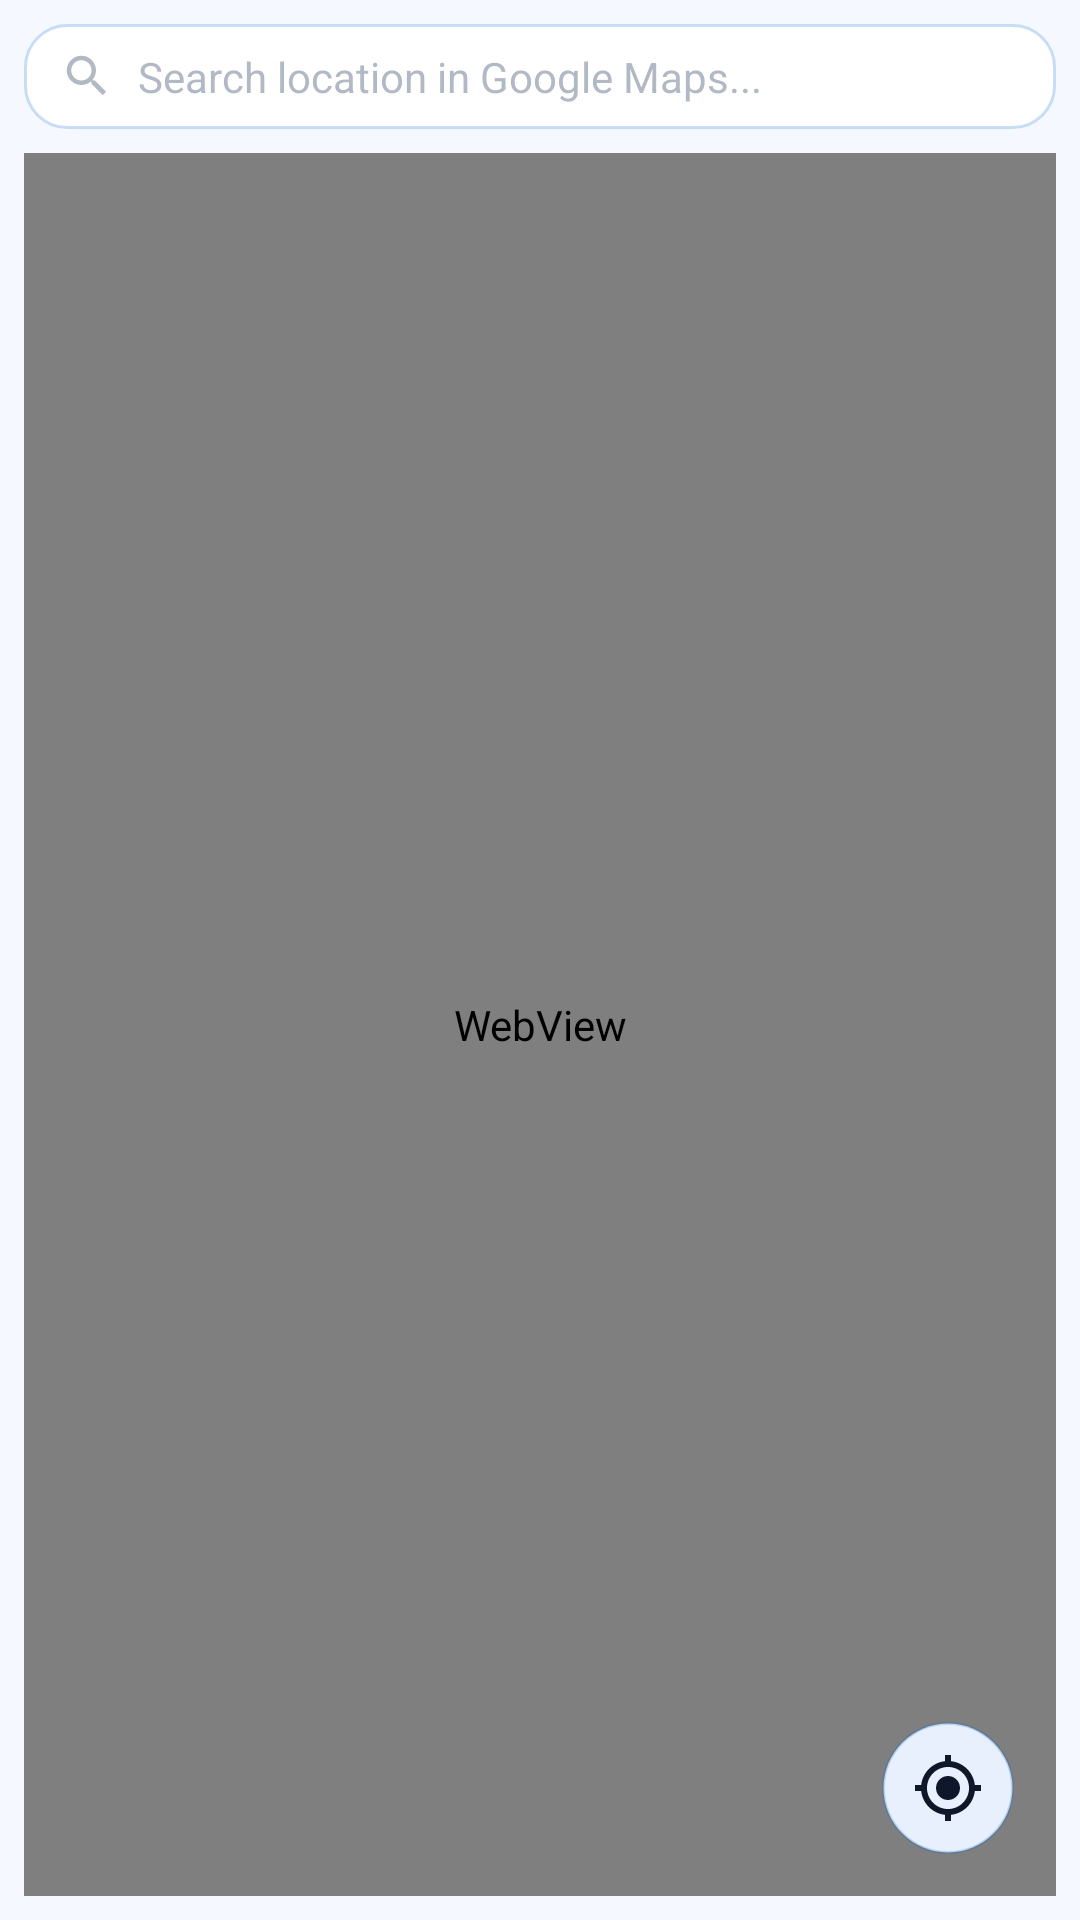

Where icons sit on this 1080*1920 app screen, as region(x1, y1, x2, y2):
Center map: region(882, 1722, 1014, 1854)
